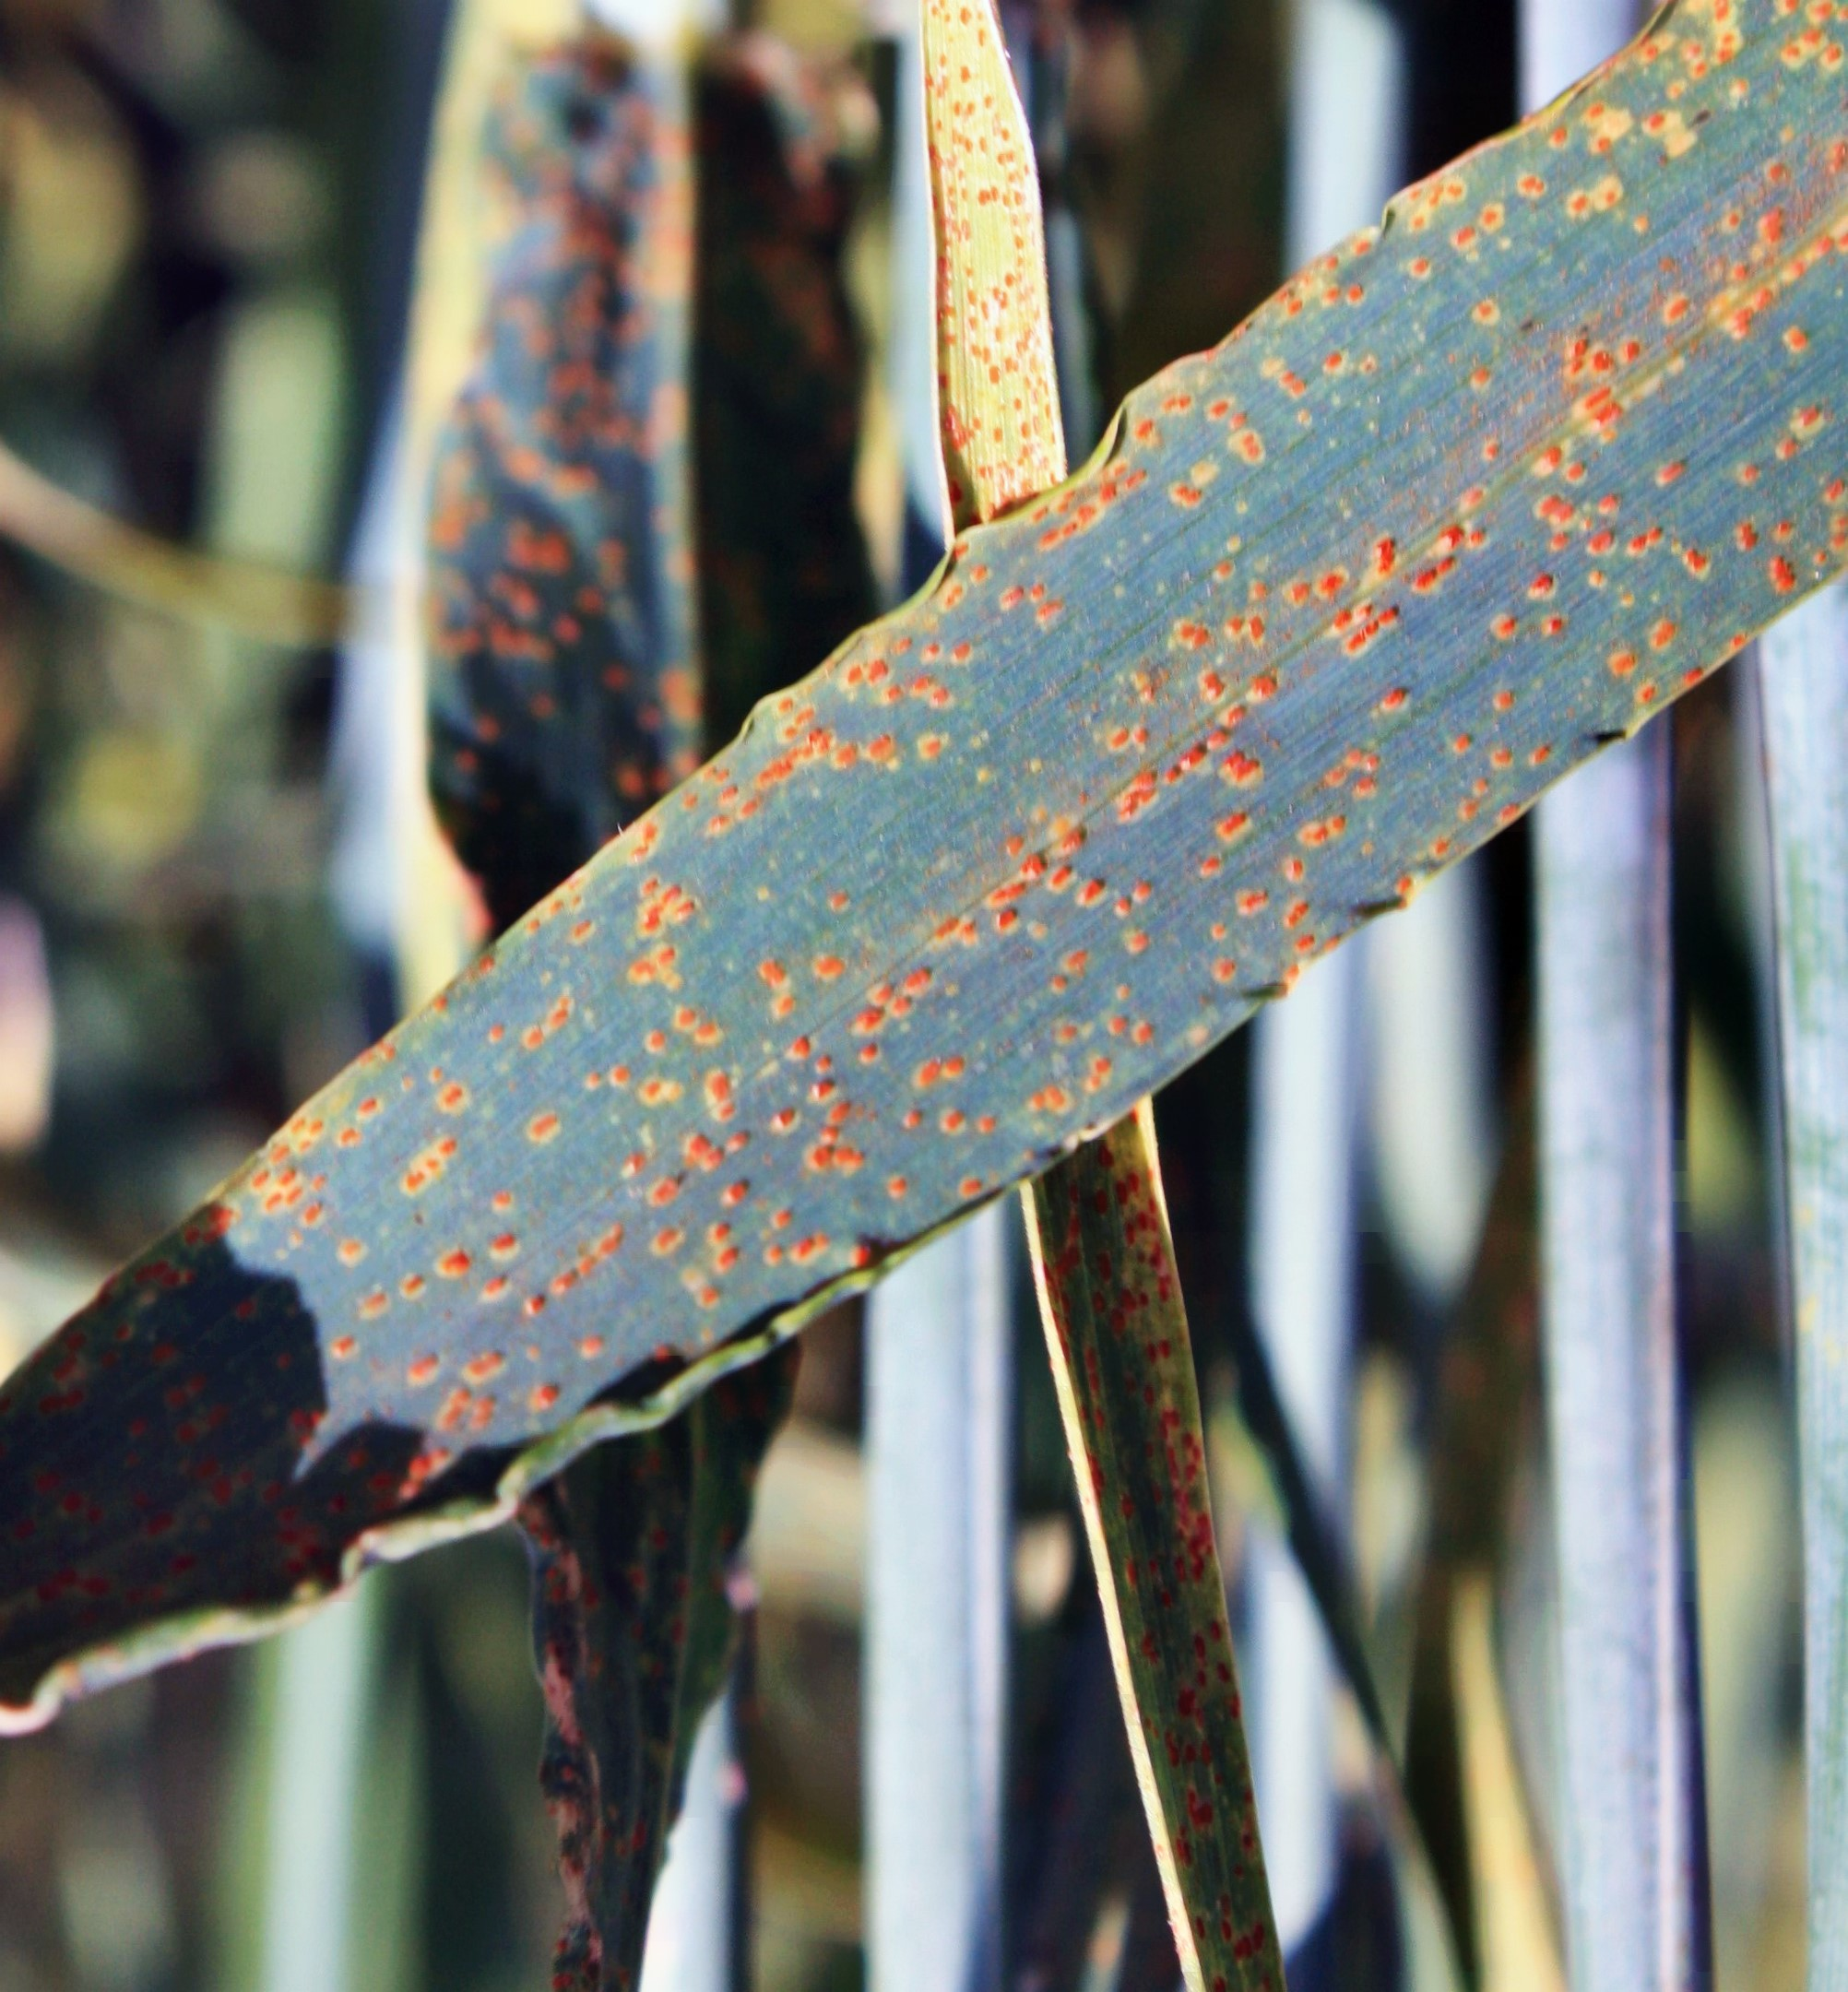Leaf Rust: (363, 201, 1768, 1445)
